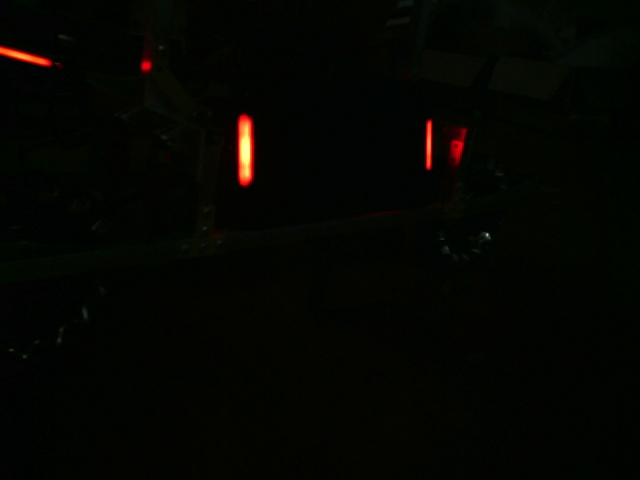lamp: (232, 111, 256, 190)
